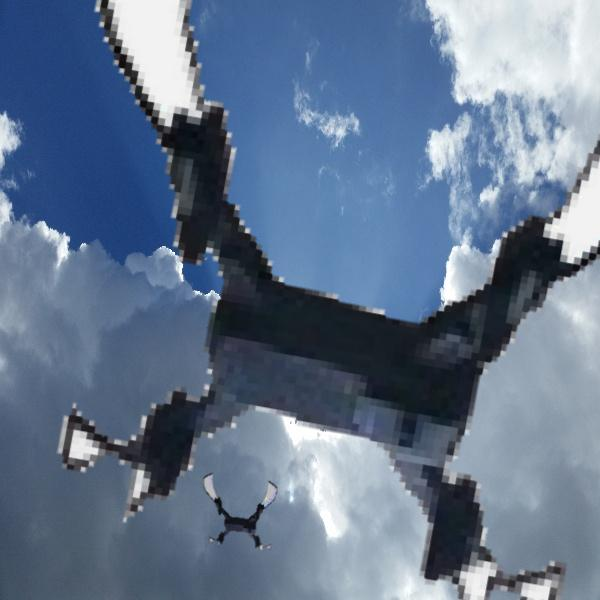drone: (197, 472, 282, 557)
